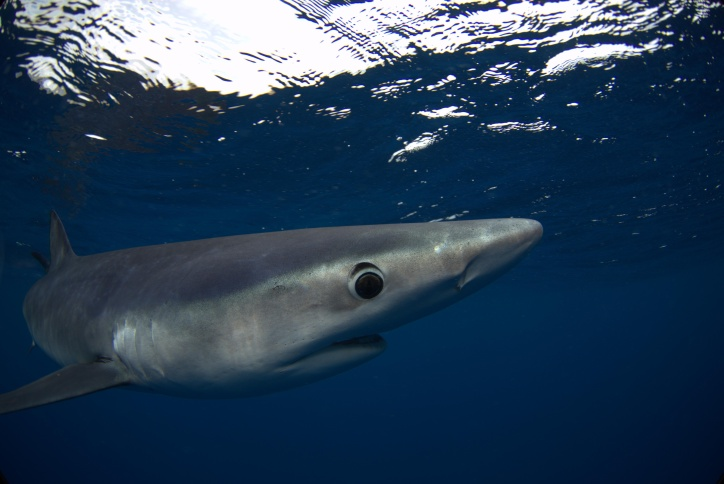Azul: (1, 175, 575, 437)
